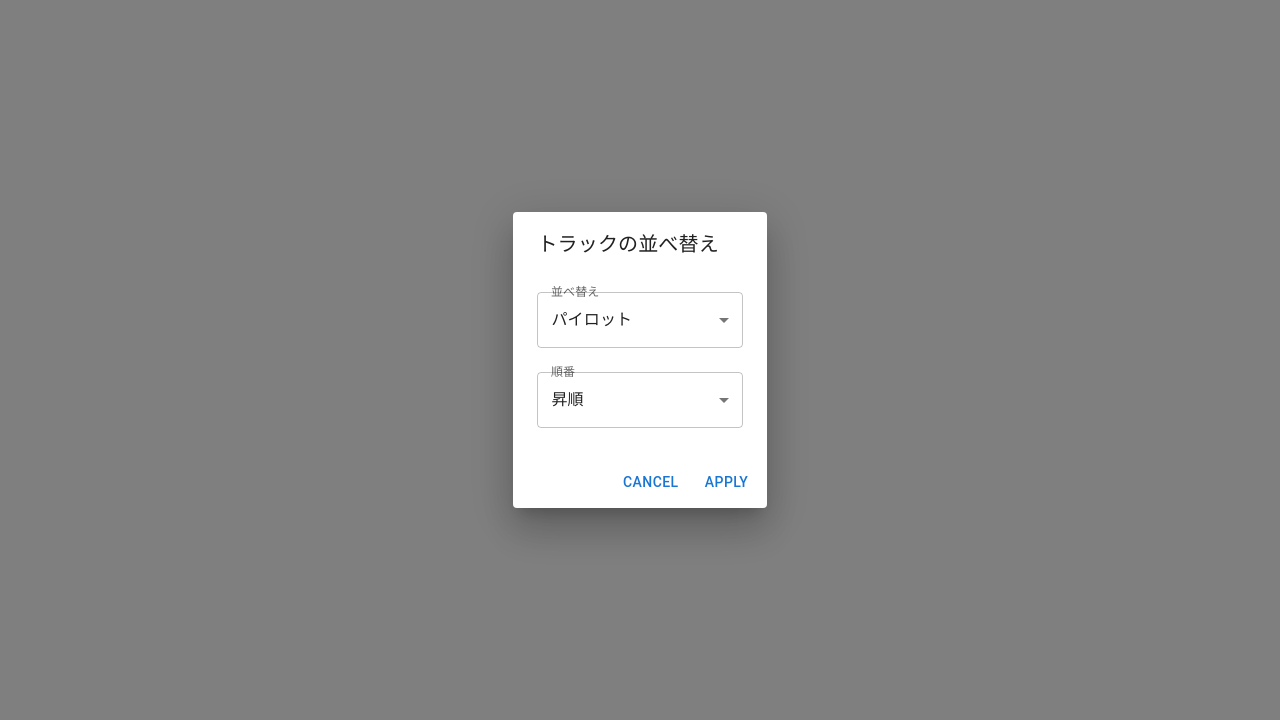
it: TrackListSortDialog › updates orderBy state on change
Replace the text in the field labelled "パイロット" with "area" at [640, 320], box [538,292,743,348]
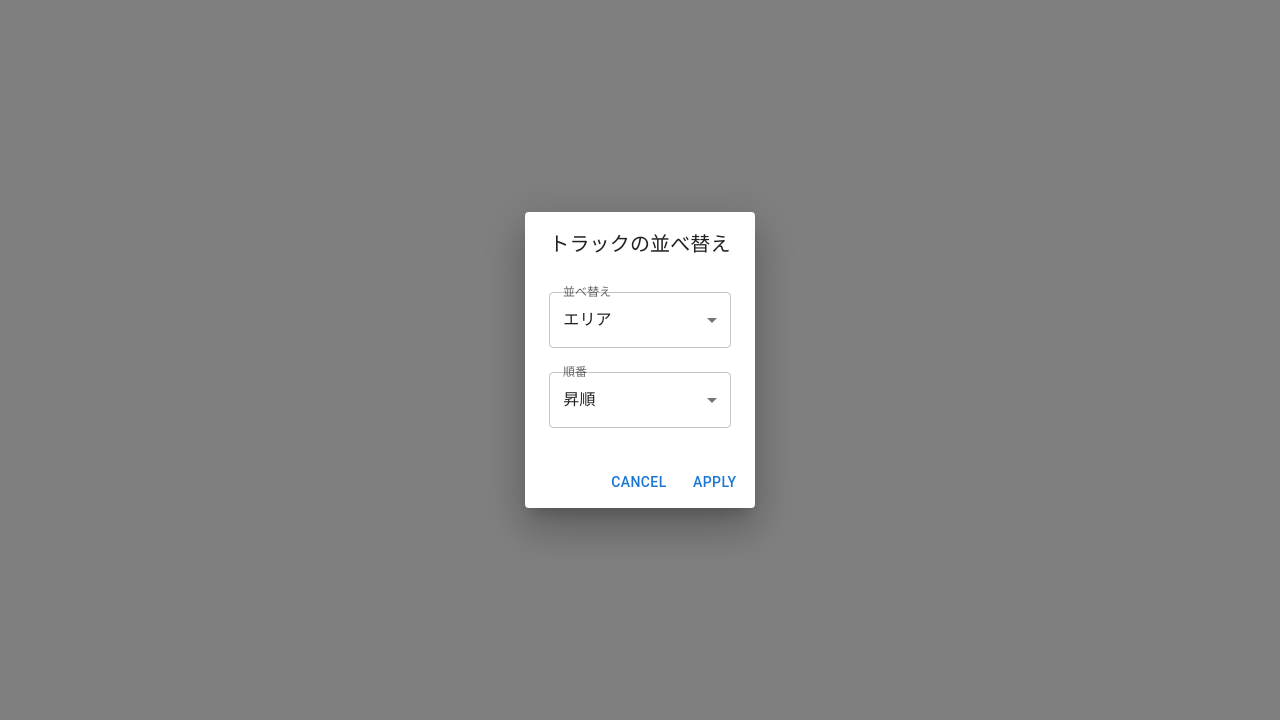
Expected: the dropdown "エリア" is shown, [563,310,612,329]
